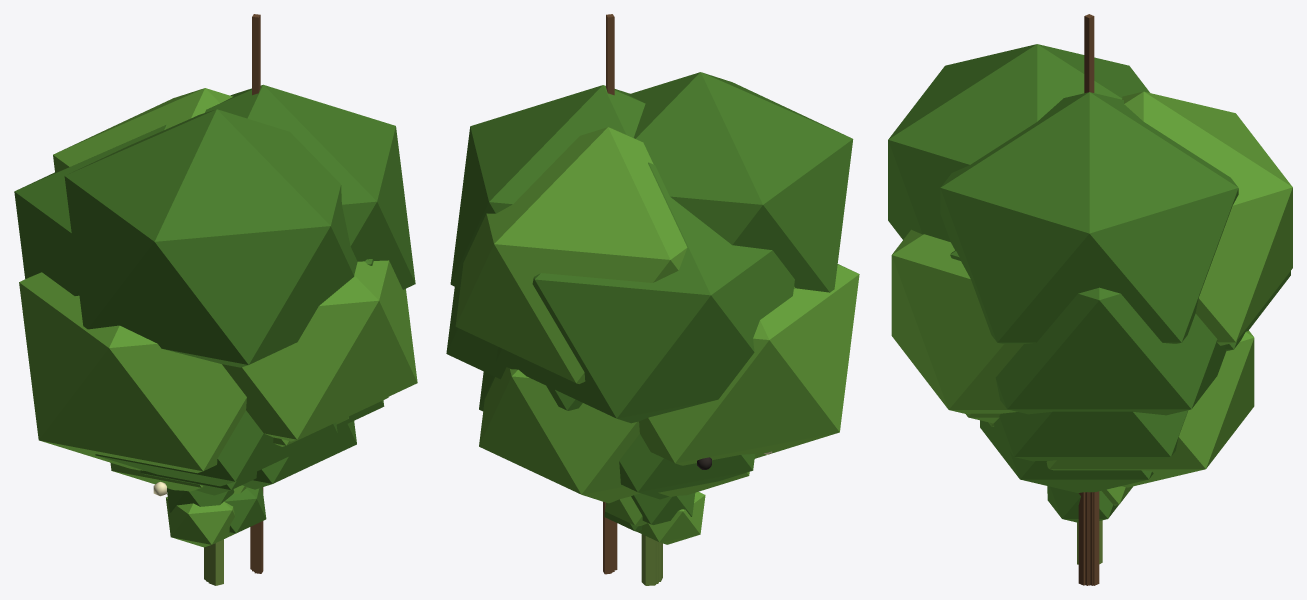
Rendered from Crop_Crop_Pepper.fbx.
3 renders of one model, left to right at view 1: azimuth 30°, elevation 25°; view 2: azimuth 150°, elevation 25°; view 3: azimuth 270°, elevation 25°, orthographic. The views are drawn at different scales.
Parts seen in each view (by area): view 1: Crop_Crop_Pepper__S4, Crop_Crop_Pepper__S1, Crop_Crop_Pepper__S3, Crop_Crop_Pepper__S5, Crop_Crop_Pepper__S2; view 2: Crop_Crop_Pepper__S4, Crop_Crop_Pepper__S3, Crop_Crop_Pepper__S5, Crop_Crop_Pepper__S1, Crop_Crop_Pepper__S2; view 3: Crop_Crop_Pepper__S4, Crop_Crop_Pepper__S3, Crop_Crop_Pepper__S5, Crop_Crop_Pepper__S1.
Part boxes in pixels (x1,y1,x2,y2): Crop_Crop_Pepper__S4: (14, 14, 417, 581); Crop_Crop_Pepper__S1: (166, 485, 266, 585); Crop_Crop_Pepper__S3: (95, 397, 388, 571); Crop_Crop_Pepper__S5: (204, 416, 356, 579); Crop_Crop_Pepper__S2: (110, 462, 256, 580); Crop_Crop_Pepper__S4: (446, 14, 859, 583); Crop_Crop_Pepper__S3: (479, 286, 795, 503); Crop_Crop_Pepper__S5: (603, 434, 755, 585); Crop_Crop_Pepper__S1: (604, 492, 705, 581); Crop_Crop_Pepper__S2: (611, 472, 749, 584); Crop_Crop_Pepper__S4: (888, 14, 1292, 585); Crop_Crop_Pepper__S3: (966, 330, 1254, 585); Crop_Crop_Pepper__S5: (980, 420, 1153, 585); Crop_Crop_Pepper__S1: (1047, 486, 1132, 585).
Size of the model in its own units: 0.2571 by 0.375 by 0.2424.
